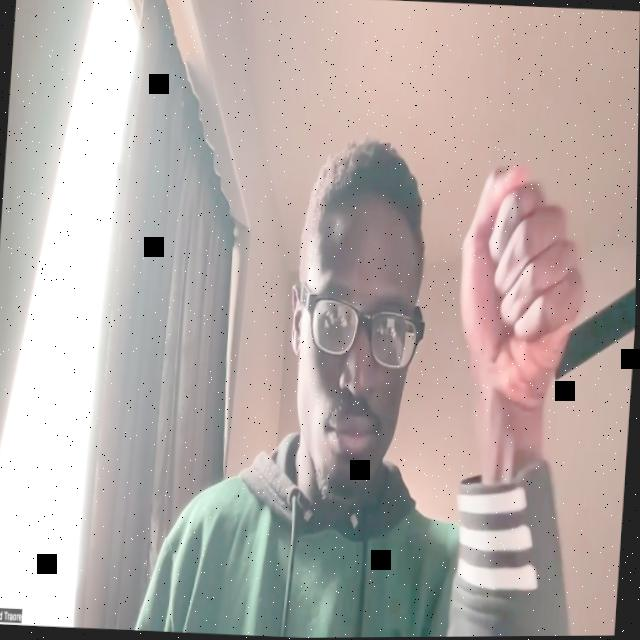Rock: (454, 159, 593, 416)
